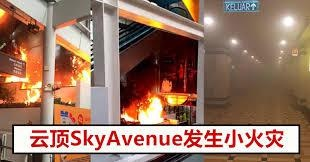fire: (130, 94, 164, 124)
